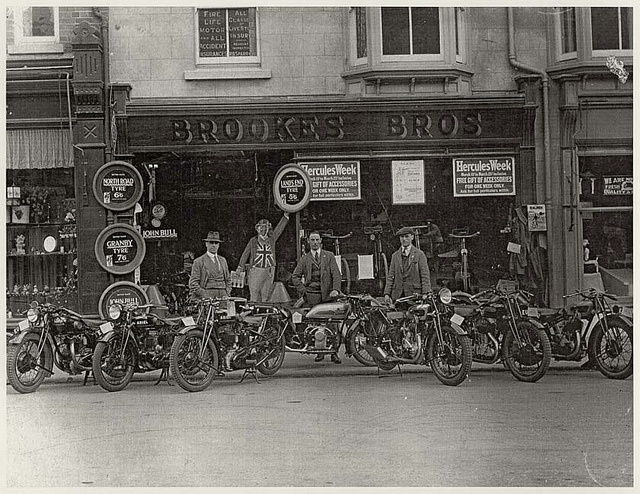non-vehicle: (345, 287, 472, 385), (168, 297, 290, 390), (91, 300, 198, 394), (451, 290, 551, 380), (537, 287, 633, 378), (8, 302, 97, 392), (269, 279, 358, 355)
